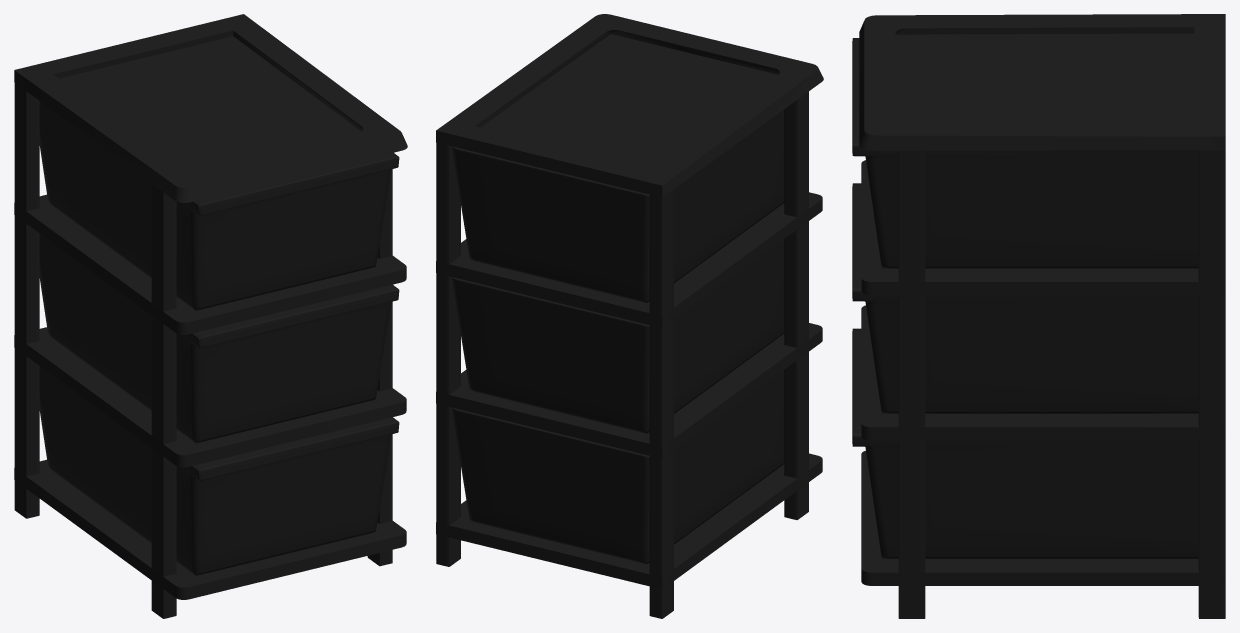
The model's file is Drawer27.fbx.
3 views of the same model, side by side, from view 1: azimuth 30°, elevation 25°; view 2: azimuth 150°, elevation 25°; view 3: azimuth 270°, elevation 25° (orthographic). The views are drawn at different scales.
Parts seen in each view (by area): view 1: Drawer28_Body, Drawer28_3, Drawer28_2, Drawer28_1; view 2: Drawer28_Body, Drawer28_2, Drawer28_3, Drawer28_1; view 3: Drawer28_Body, Drawer28_3, Drawer28_2, Drawer28_1.
Boxes of the visible parts, x1,y1,x2,y2 form: Drawer28_Body: (14,14,407,618); Drawer28_3: (39,366,399,575); Drawer28_2: (39,234,399,443); Drawer28_1: (39,101,399,310); Drawer28_Body: (436,14,823,618); Drawer28_2: (452,239,784,433); Drawer28_3: (452,370,784,563); Drawer28_1: (452,109,784,302); Drawer28_Body: (859,14,1225,618); Drawer28_3: (852,328,1198,558); Drawer28_2: (852,183,1198,413); Drawer28_1: (852,38,1198,268).
Bounding box in the file's own units: 33.91 × 61.51 × 43.14.
